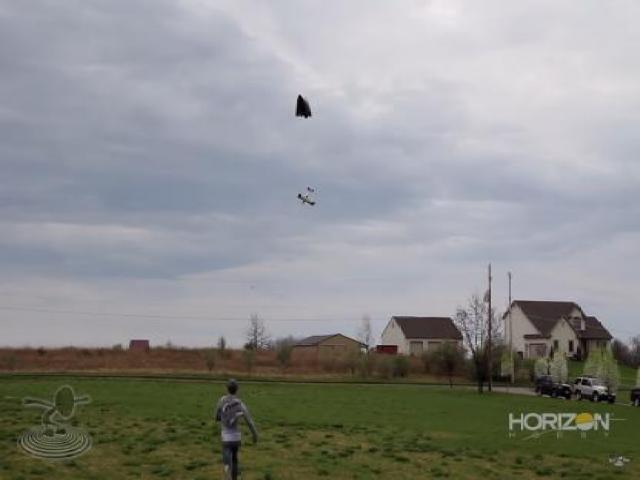uav: (296, 182, 318, 211)
